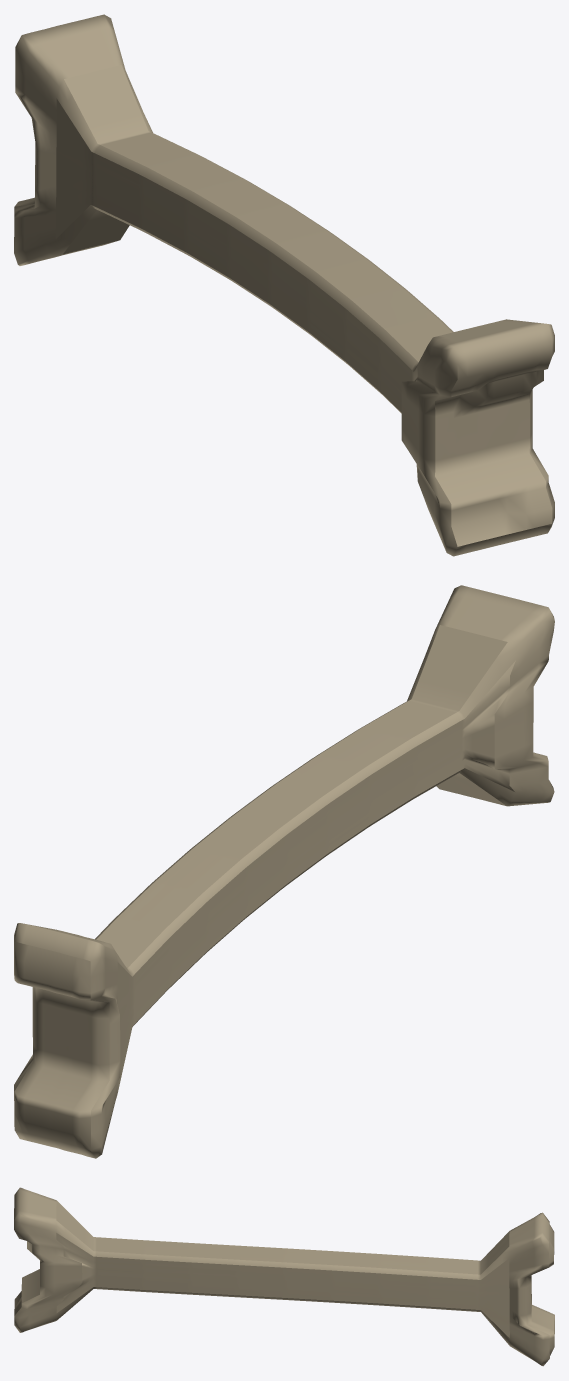
Rendered from SpellWeaversBone.fbx.
The picture shows the model from 3 angles, top to bottom: view 1: azimuth 30°, elevation 25°; view 2: azimuth 150°, elevation 25°; view 3: azimuth 270°, elevation 25°; orthographic projection. The views are drawn at different scales.
Parts seen in each view (by area): view 1: Bone1; view 2: Bone1; view 3: Bone1.
Boxes of the visible parts, x1,y1,x2,y2 form: Bone1: (14,14,554,556); Bone1: (14,585,554,1158); Bone1: (14,1187,554,1366).
Size of the model in its own units: 1.89 by 3.87 by 12.69.
